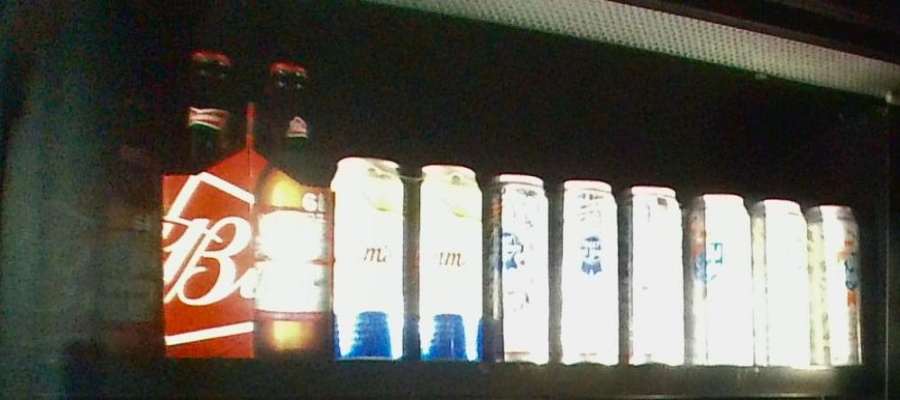bottle: (162, 45, 333, 360), (487, 170, 689, 366), (689, 191, 869, 366), (334, 154, 481, 358), (46, 108, 160, 359)
